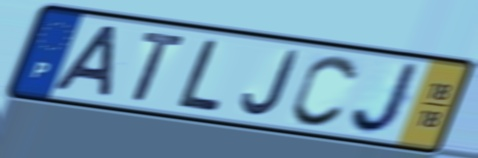A: (49, 23, 122, 100)
C: (290, 52, 363, 130)
J: (349, 61, 425, 137), (240, 48, 303, 120)
L: (173, 37, 225, 115)
T: (130, 30, 190, 105)
